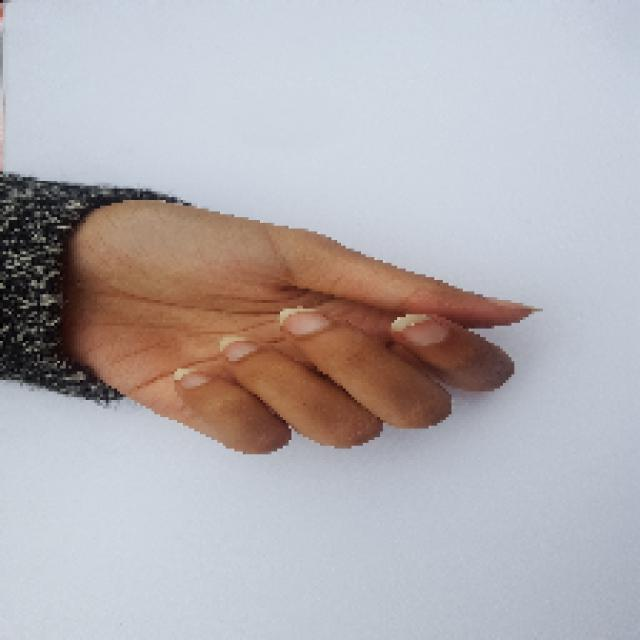Nail: (393, 314, 449, 346), (279, 307, 328, 336), (220, 334, 255, 360), (174, 368, 209, 389)
